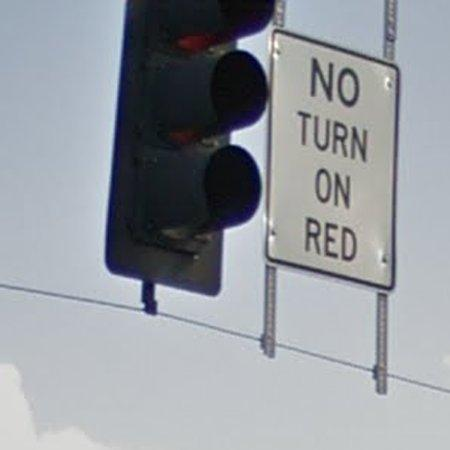traffic lights: (101, 0, 277, 298)
